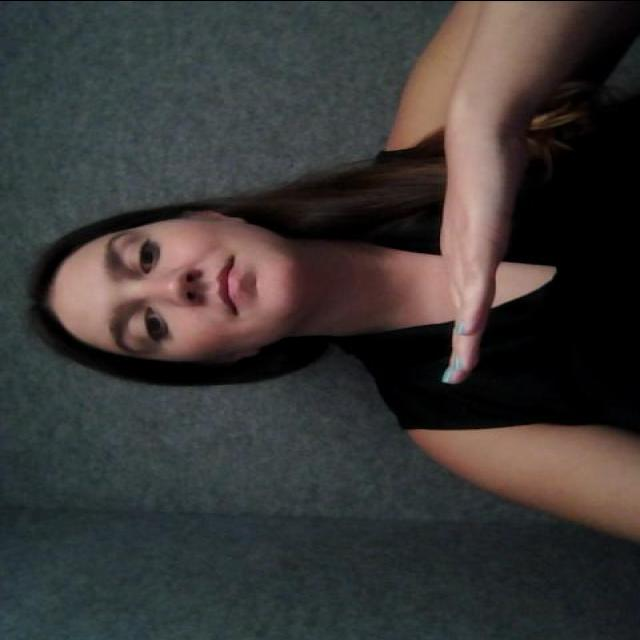Paper: (411, 127, 546, 390)
